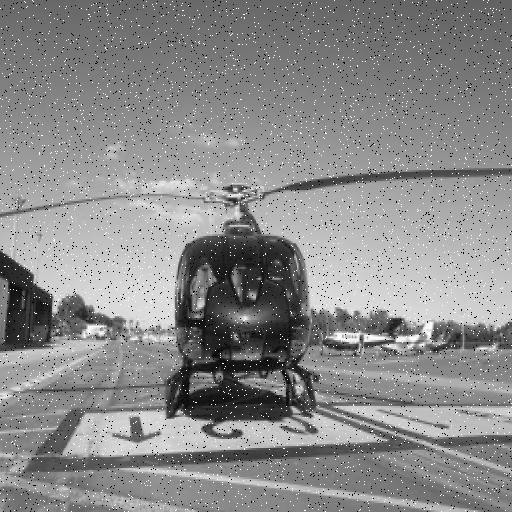helicopter: (1, 155, 512, 424)
